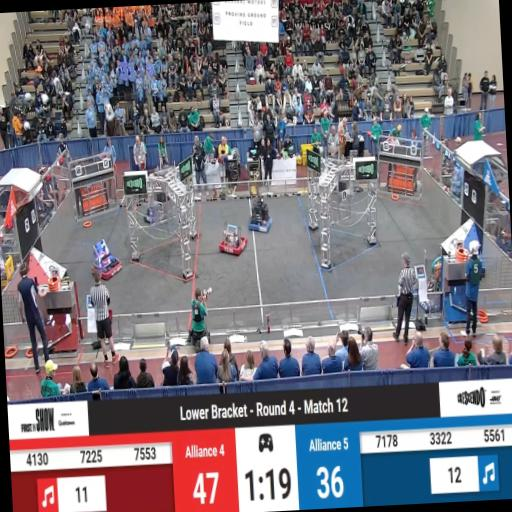robot: (94, 238, 124, 281), (218, 222, 248, 256), (247, 196, 272, 233)
